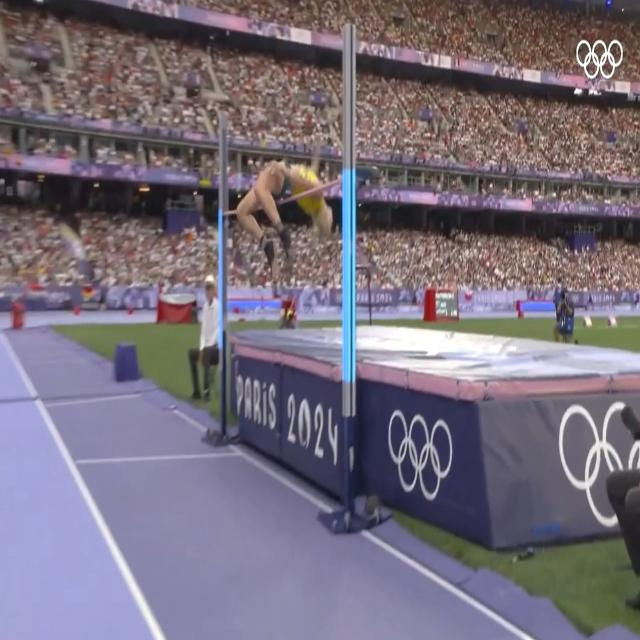jump: (236, 162, 334, 278)
